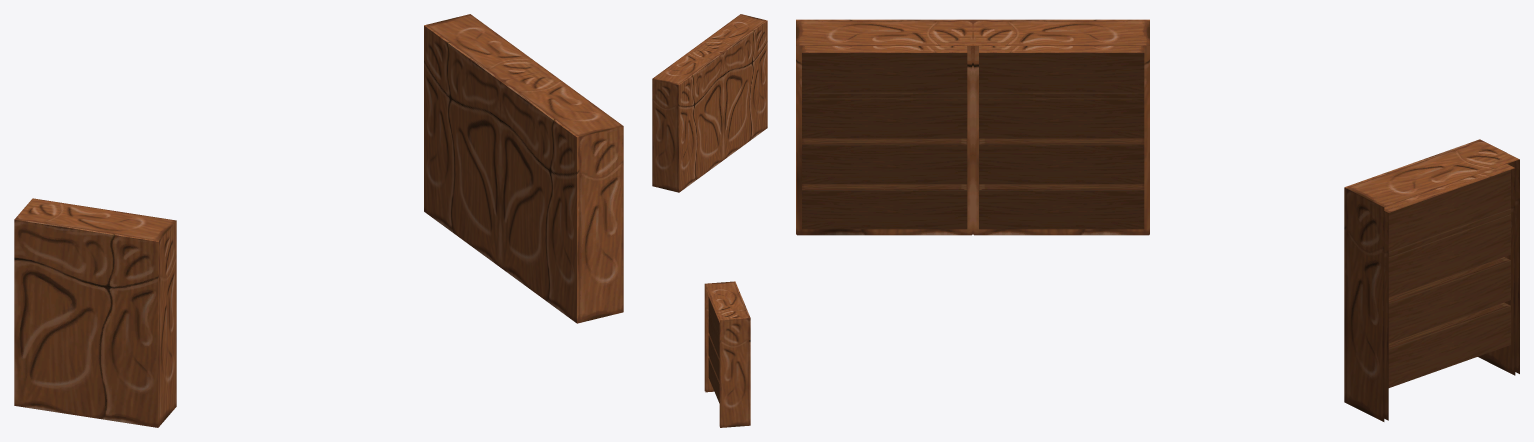
Rendered from EKH_GROTTO_PS_GR_BOOKCASE39__GX.fbx.
3 renders of one model, left to right at view 1: azimuth 30°, elevation 25°; view 2: azimuth 150°, elevation 25°; view 3: azimuth 270°, elevation 25°, orthographic. The views are drawn at different scales.
Visible parts, largest first — view 1: EKH_GROTTO_PS_GR_BOOKCASE39__GX; view 2: EKH_GROTTO_PS_GR_BOOKCASE39__GX; view 3: EKH_GROTTO_PS_GR_BOOKCASE39__GX.
Boxes of the visible parts, bbox=[...] form: EKH_GROTTO_PS_GR_BOOKCASE39__GX: bbox=[14, 14, 623, 427]; EKH_GROTTO_PS_GR_BOOKCASE39__GX: bbox=[652, 14, 767, 427]; EKH_GROTTO_PS_GR_BOOKCASE39__GX: bbox=[796, 19, 1519, 421].
Bounding box in the file's own units: 36998 × 47379 × 64093.
5 materials, 5 textured.
